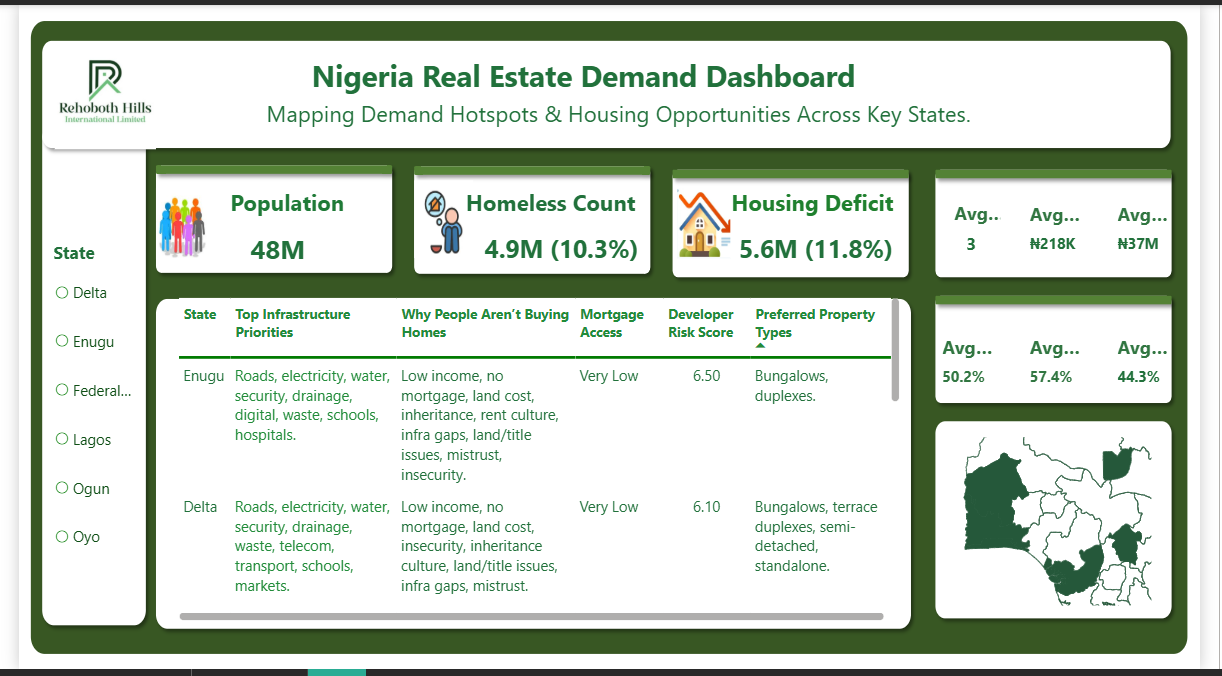

Layout of this report page (visuals, bound fields, positions):
{"tool":"powerbi","page":{"name":"Page 3","canvas":[1280,720],"ordinal":0},"visuals":[{"type":"listSlicer","title":"State","fields":{"Values":["Sheet1.State"]},"box":[32,192,96,528],"z":0},{"type":"tableEx","fields":{"Values":["Sheet1.State","Sheet1.Top Infrastructure Priorities","Sheet1.Why People Aren’t Buying Homes","Housing Datasets.Mortgage Access","Sum(Housing Datasets.Developer Risk Score)","Housing Datasets.Preferred Property Types"]},"box":[168,312,792,360],"z":1000},{"type":"card","fields":{"Values":["#Measures.population"]},"box":[208,240,144,48],"z":2000},{"type":"card","fields":{"Values":["#Measures.Homeless Summary"]},"box":[480,240,216,48],"z":3000},{"type":"card","fields":{"Values":["#Measures.Housing Deficit Summary"]},"box":[768,240,192,48],"z":4000},{"type":"cardVisual","fields":{"Data":["#Measures.avg family size","#Measures.Avg Monthly Income","#Measures.Avg BUdget"]},"box":[992,144,256,176],"z":5000},{"type":"cardVisual","fields":{"Data":["#Measures.avg urbanization rate","#Measures.avg youth population","#Measures.avg Willing to buy"]},"box":[992,320,240,96],"z":6000},{"type":"textbox","box":[224,192,160,48],"z":7000},{"type":"textbox","box":[480,192,224,48],"z":8000},{"type":"textbox","box":[768,192,224,48],"z":9000},{"type":"textbox","box":[312,48,696,72],"z":10000},{"type":"textbox","box":[264,96,840,48],"z":11000},{"type":"shapeMap","fields":{"Category":["Housing Datasets.State"],"Value":["#Measures.population"]},"box":[976,448,272,224],"z":12000}]}

Visuals, with their boxes in screenshot pixels (x1, y1, x2, y2), scaled from the page's 1280x720 canvas onto the 1222x676 screenshot:
"State" listSlicer: x1=31 y1=180 x2=122 y2=675
tableEx - Sheet1.State x Sheet1.Top Infrastructure Priorities: x1=160 y1=293 x2=916 y2=631
card - #Measures.population: x1=199 y1=225 x2=336 y2=270
card - #Measures.Homeless Summary: x1=458 y1=225 x2=664 y2=270
card - #Measures.Housing Deficit Summary: x1=733 y1=225 x2=916 y2=270
cardVisual - #Measures.avg family size x #Measures.Avg Monthly Income: x1=947 y1=135 x2=1191 y2=300
cardVisual - #Measures.avg urbanization rate x #Measures.avg youth population: x1=947 y1=300 x2=1176 y2=391
textbox: x1=214 y1=180 x2=367 y2=225
textbox: x1=458 y1=180 x2=672 y2=225
textbox: x1=733 y1=180 x2=947 y2=225
textbox: x1=298 y1=45 x2=962 y2=113
textbox: x1=252 y1=90 x2=1054 y2=135
shapeMap - Housing Datasets.State x #Measures.population: x1=932 y1=421 x2=1191 y2=631
